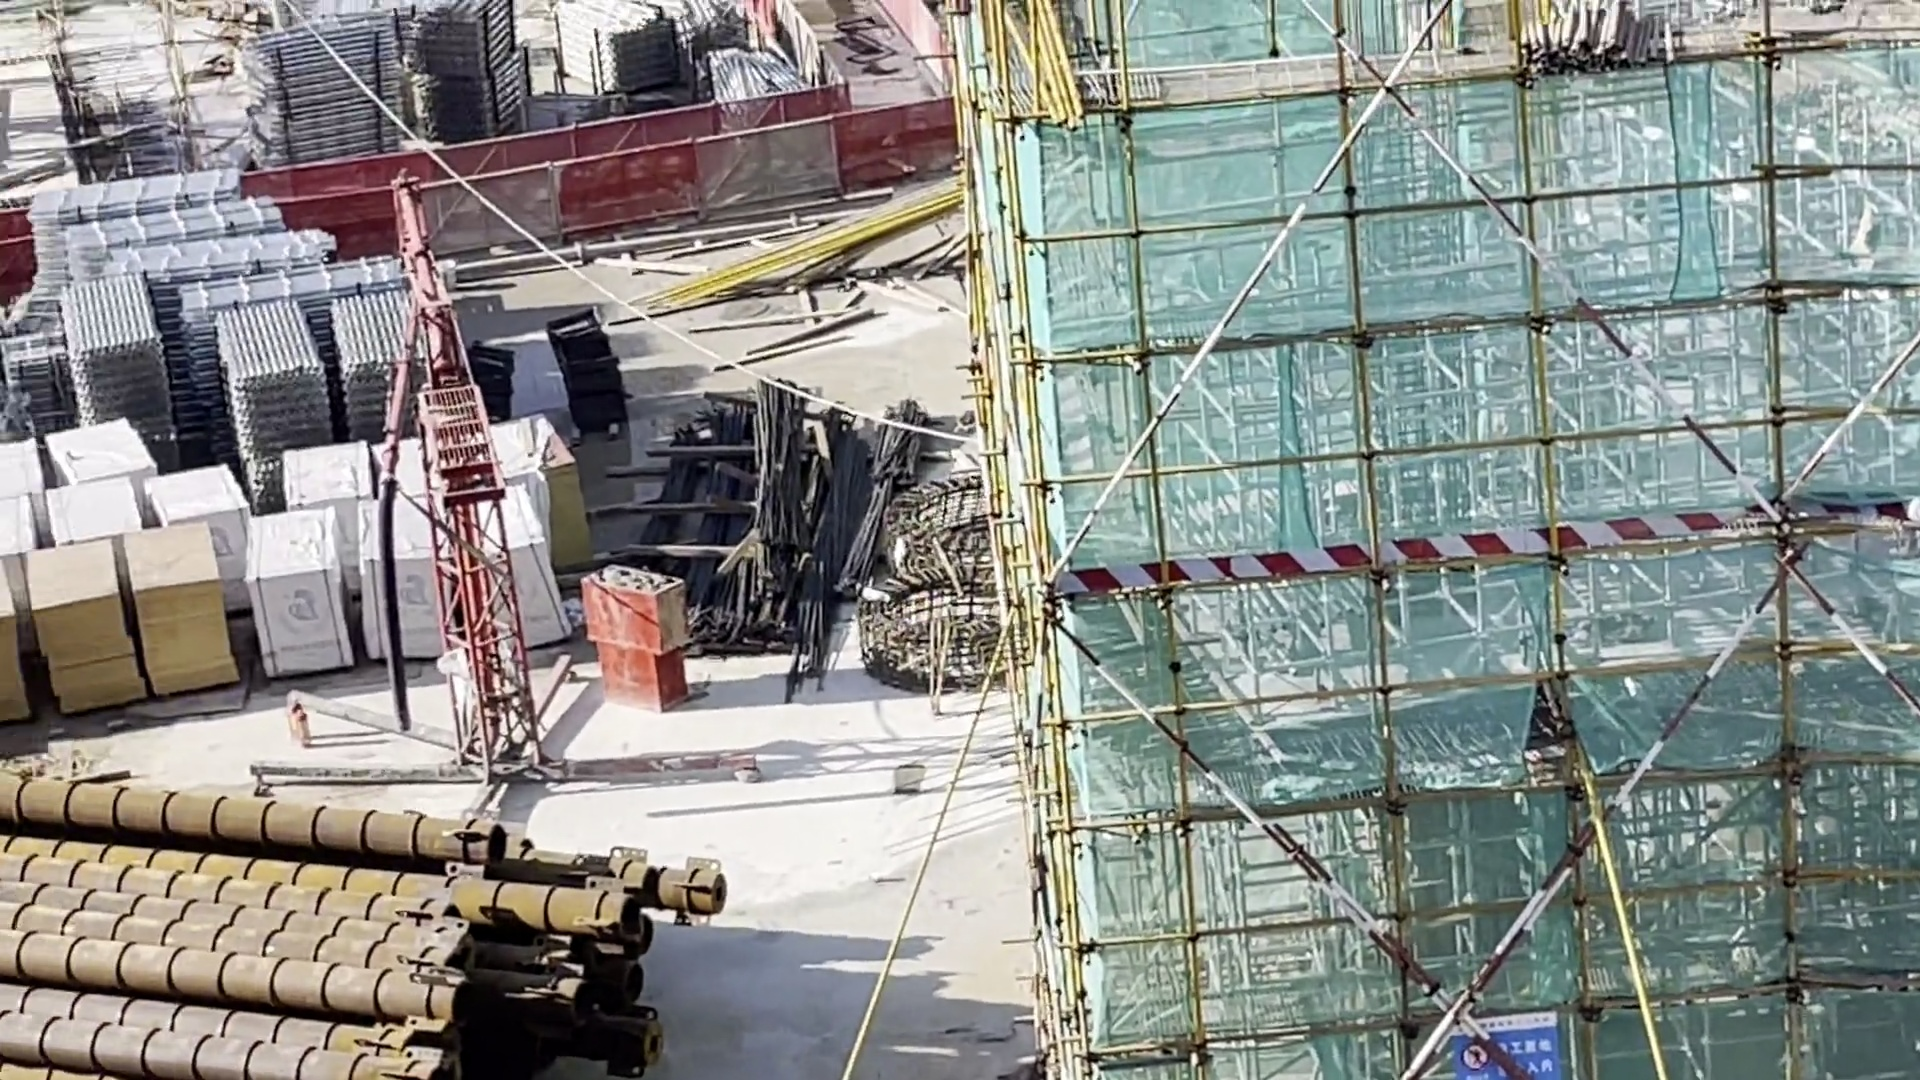board: (125, 516, 266, 708), (21, 527, 152, 720), (1, 538, 49, 732)
scaffold: (174, 266, 426, 442), (225, 12, 418, 166), (210, 299, 335, 502), (55, 280, 183, 454), (326, 297, 459, 447), (57, 196, 320, 272), (24, 160, 261, 229), (546, 4, 684, 102), (401, 1, 533, 76), (411, 66, 529, 146)
slogan: (1437, 1001, 1569, 1080)
